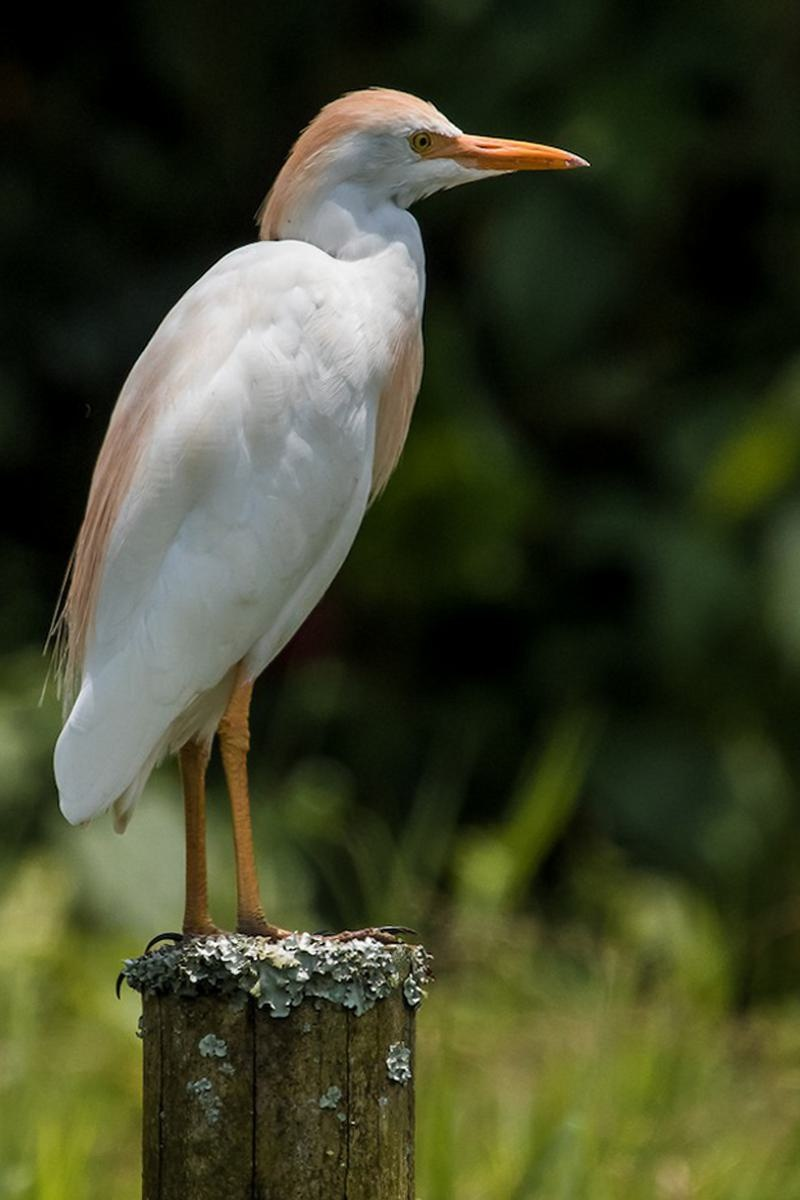egret: (42, 84, 604, 976)
